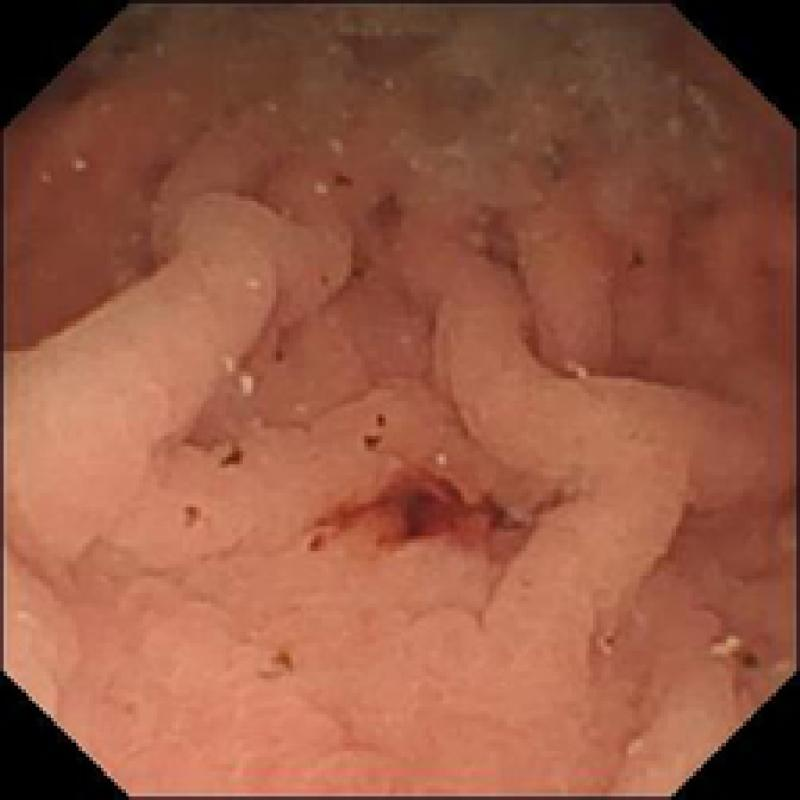bleeding: (293, 454, 550, 546)
